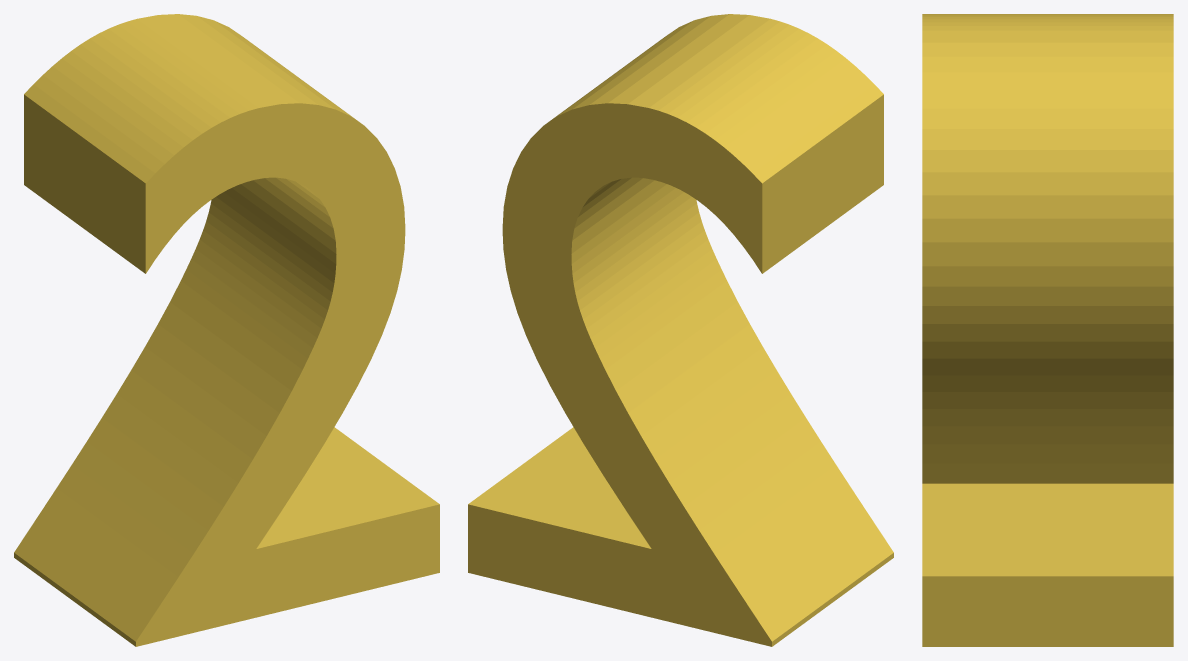
Rendered from Mambo Numba Two.glb.
3 renders of one model, left to right at view 1: azimuth 30°, elevation 25°; view 2: azimuth 150°, elevation 25°; view 3: azimuth 270°, elevation 25°, orthographic. The views are drawn at different scales.
Parts seen in each view (by area): view 1: Mambo Number 2-col; view 2: Mambo Number 2-col; view 3: Mambo Number 2-col.
Part boxes in pixels (x1,y1,x2,y2): Mambo Number 2-col: (14, 14, 439, 646); Mambo Number 2-col: (468, 14, 893, 646); Mambo Number 2-col: (922, 14, 1173, 646).
Size of the model in its own units: 4.32 by 6.91 by 3.
